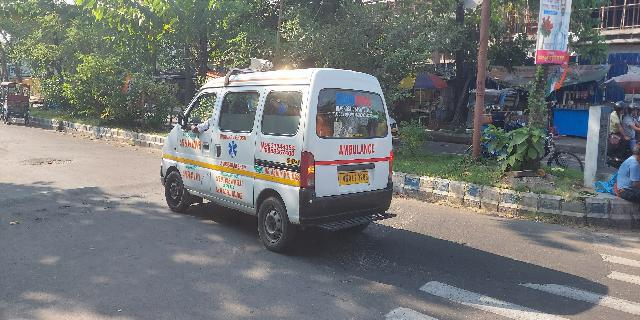Van: (160, 63, 400, 242)
